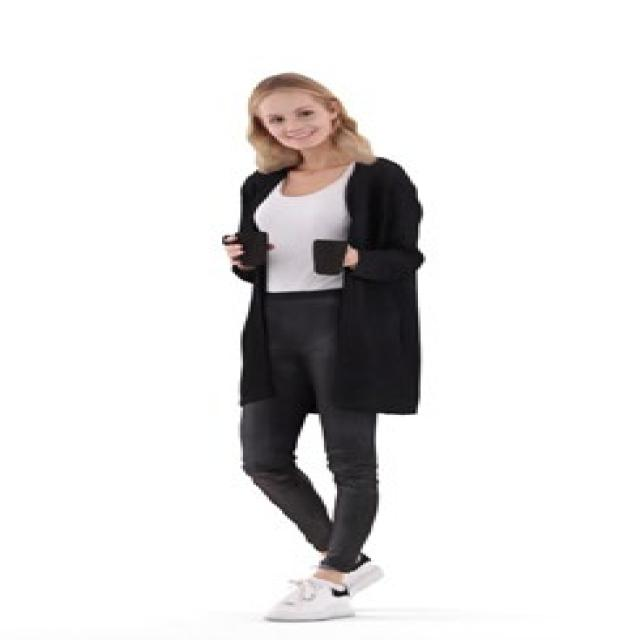standing: (222, 68, 433, 627)
